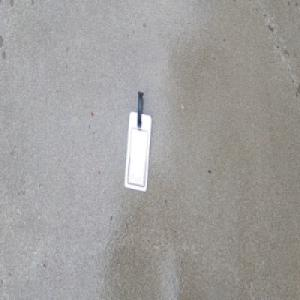LuggageTag: (123, 90, 153, 193)
